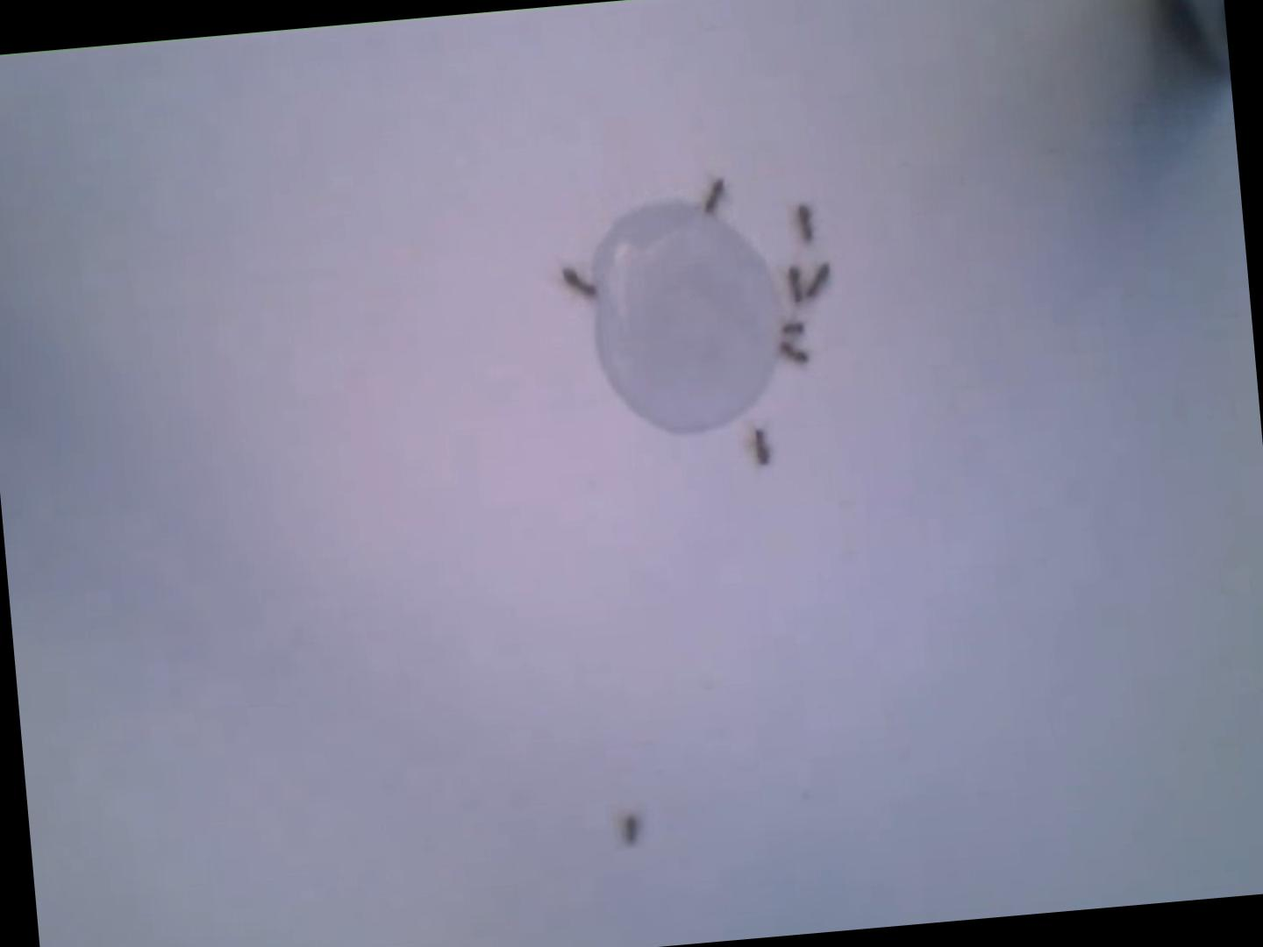Ant: (800, 261, 833, 303), (558, 265, 596, 301), (699, 175, 727, 214), (785, 263, 806, 308), (793, 202, 814, 246), (774, 340, 808, 367), (746, 425, 768, 466), (775, 317, 806, 340), (620, 812, 638, 848)
